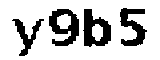5: (114, 5, 149, 48)
9: (49, 8, 80, 49)
b: (80, 5, 113, 52)
y: (8, 17, 45, 57)
